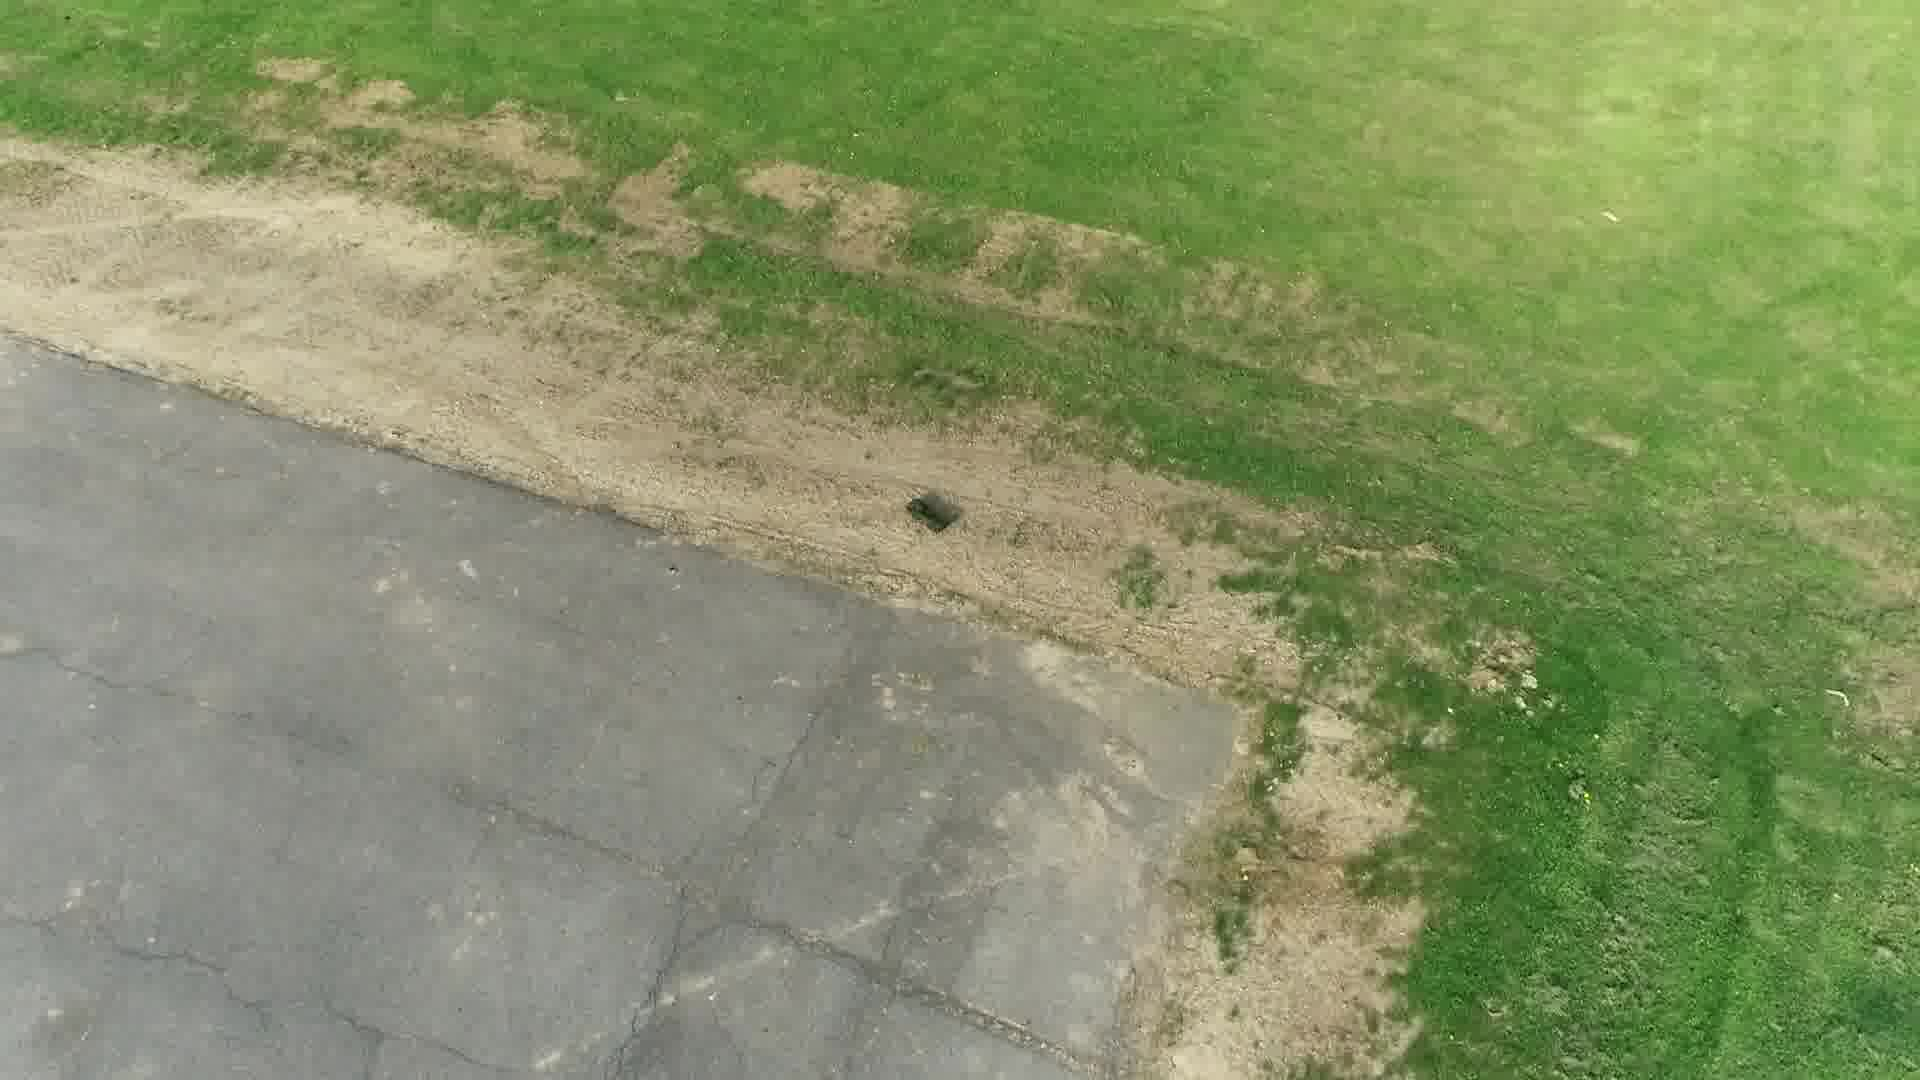transporter9: (905, 498, 947, 535)
